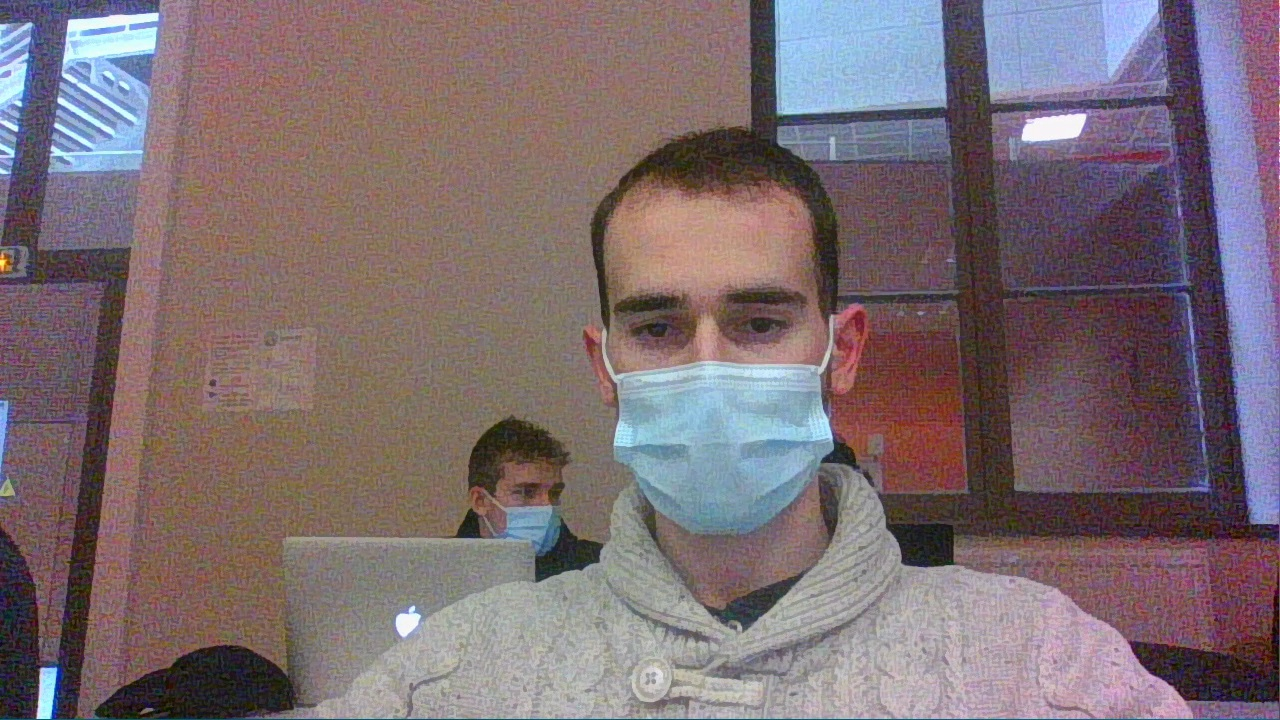mask: (580, 121, 864, 531), (465, 418, 561, 554)
